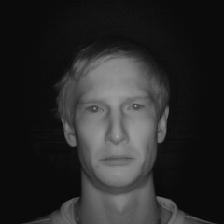sad: (50, 38, 179, 203)
